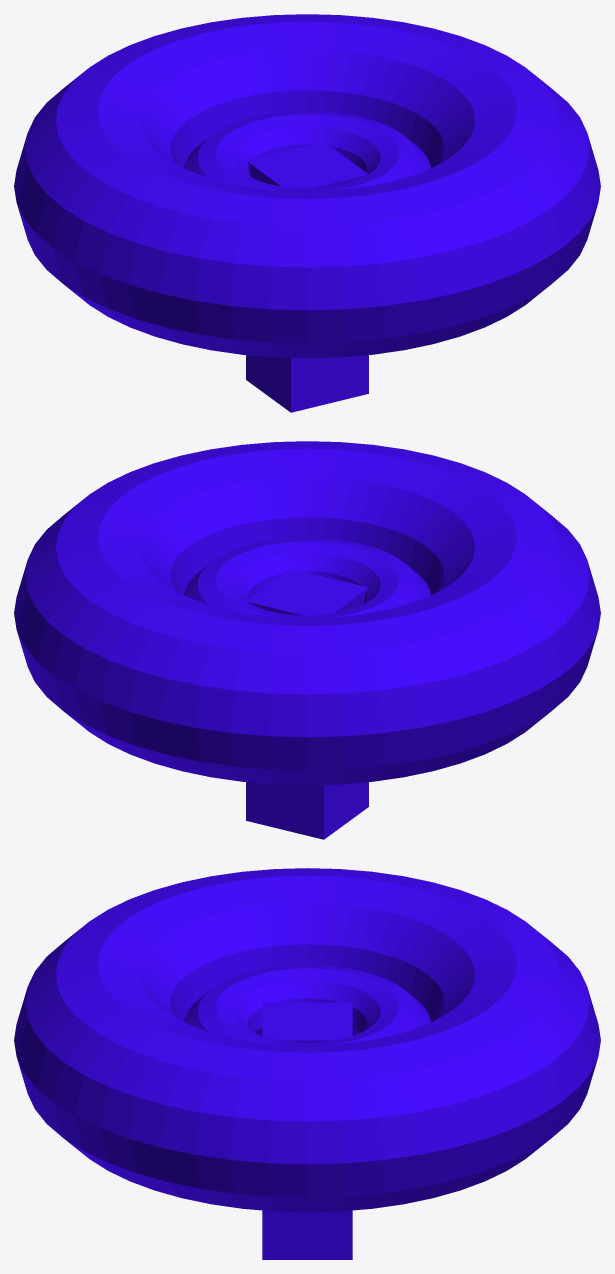
Rendered from кислотныйгриб.obj.
3 views of the same model, one above another, from view 1: azimuth 30°, elevation 25°; view 2: azimuth 150°, elevation 25°; view 3: azimuth 270°, elevation 25° (orthographic).
Parts seen in each view (by area): view 1: Torus.004; view 2: Torus.004; view 3: Torus.004.
Part boxes in pixels (x1,y1,x2,y2): Torus.004: (14, 14, 600, 412); Torus.004: (14, 441, 600, 839); Torus.004: (14, 868, 600, 1259).
Size of the model in its own units: 1.55 by 0.8068 by 1.55.
